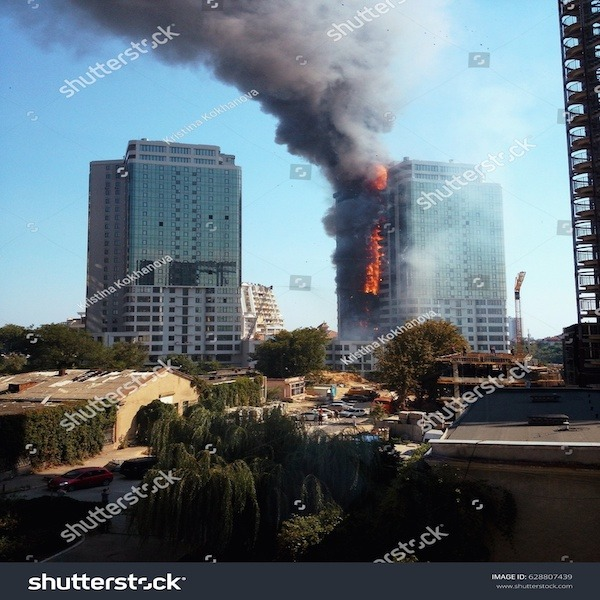fire: (353, 192, 390, 304), (351, 152, 390, 189)
